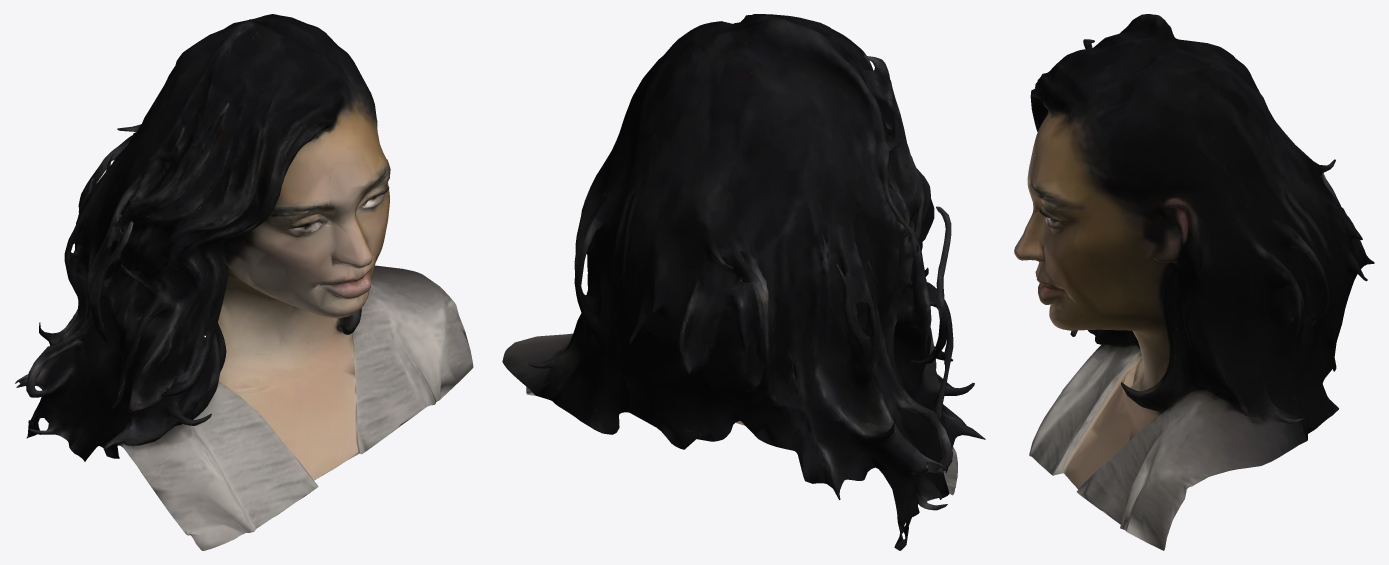
Rendered from gal_gadot.glb.
3 views of the same model, side by side, from view 1: azimuth 30°, elevation 25°; view 2: azimuth 150°, elevation 25°; view 3: azimuth 270°, elevation 25° (orthographic). The views are drawn at different scales.
Visible parts, largest first — view 1: world; view 2: world; view 3: world.
Boxes of the visible parts, x1,y1,x2,y2 form: world: [15, 14, 473, 550]; world: [502, 14, 985, 550]; world: [1014, 14, 1374, 550].
Bounding box in the file's own units: 0.962 × 0.9971 × 0.6851.
1 material, 1 textured.
